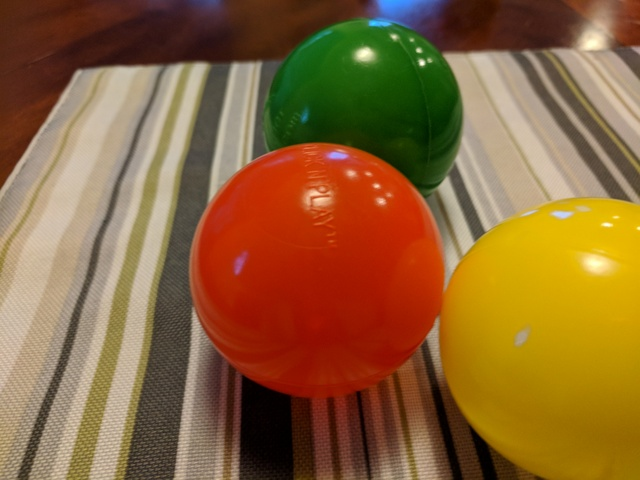ball: (189, 142, 444, 399)
